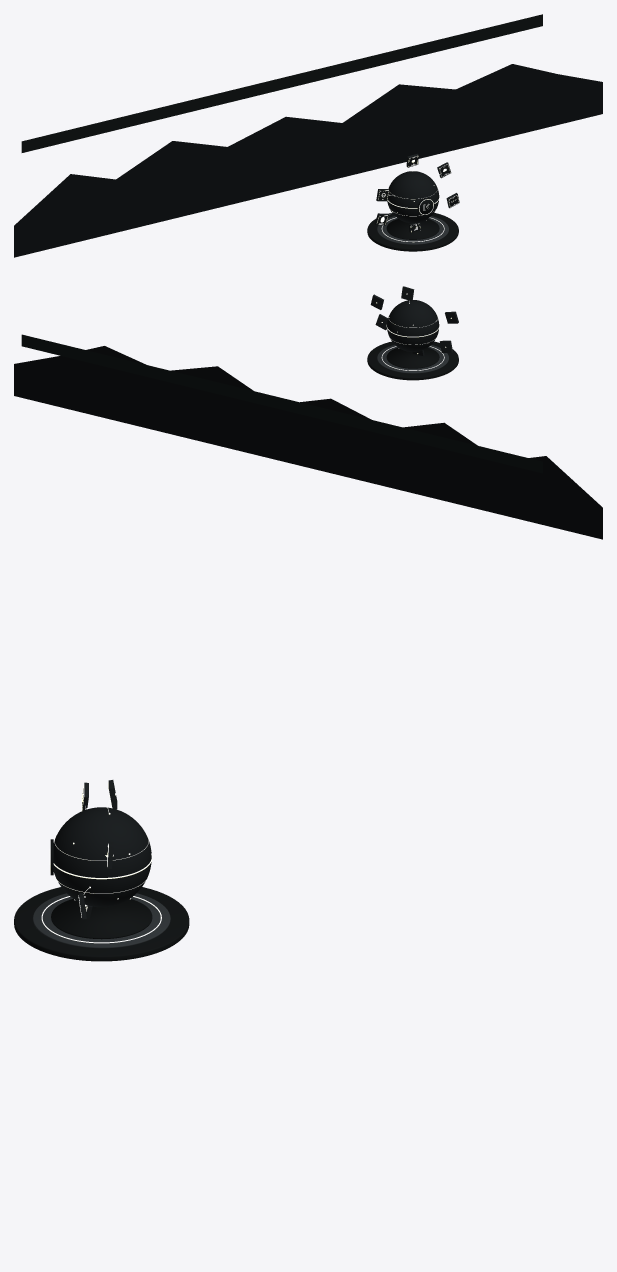
Rendered from kodmates_hero.glb.
3 views of the same model, one above another, from view 1: azimuth 30°, elevation 25°; view 2: azimuth 150°, elevation 25°; view 3: azimuth 270°, elevation 25° (orthographic). The views are drawn at different scales.
Visible parts, largest first — view 1: Background_Mountains, Atmosphere, CoreBody, Platform_Base, Platform_Ring_02, Platform_Ring_01; view 2: Background_Mountains, Atmosphere, CoreBody, Platform_Base, Platform_Ring_02, Platform_Ring_01; view 3: CoreBody, Platform_Base, Platform_Ring_02, Platform_Ring_01.
Part boxes in pixels (x1,y1,x2,y2): Background_Mountains: (14,64,602,257); Atmosphere: (21,14,542,152); CoreBody: (387,171,439,223); Platform_Base: (367,212,458,251); Platform_Ring_02: (386,219,439,239); Platform_Ring_01: (377,216,448,244); Background_Mountains: (14,346,602,539); Atmosphere: (21,334,542,473); CoreBody: (387,300,439,351); Platform_Base: (367,341,458,380); Platform_Ring_02: (386,347,439,368); Platform_Ring_01: (377,345,448,373); CoreBody: (53,807,151,907); Platform_Base: (14,887,189,961); Platform_Ring_02: (51,898,152,939); Platform_Ring_01: (32,893,170,948).
Size of the model in its own units: 52 by 8.84 by 23.5.
